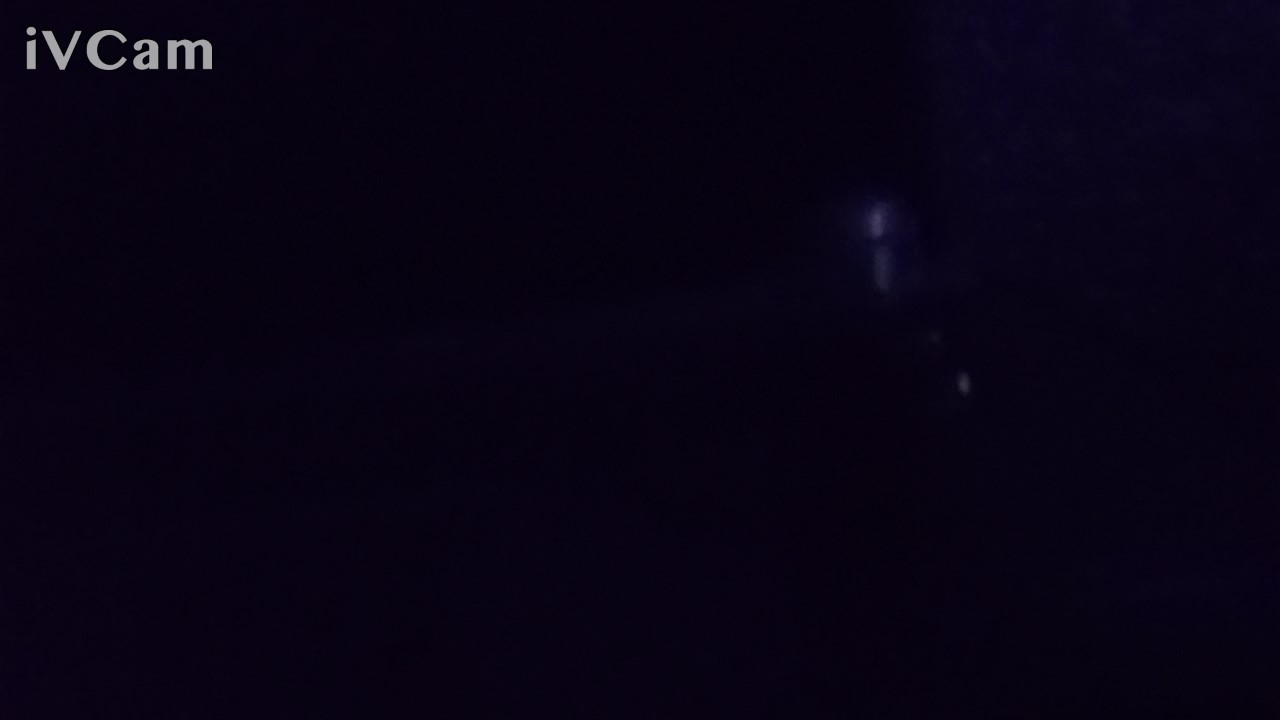mandalorian: (748, 179, 1017, 622)
